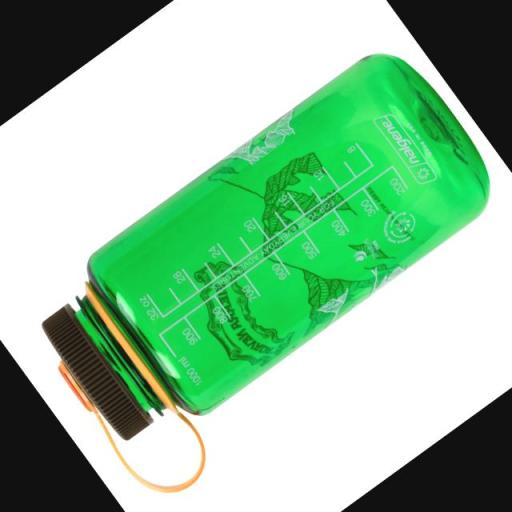bottle: (9, 32, 512, 510)
